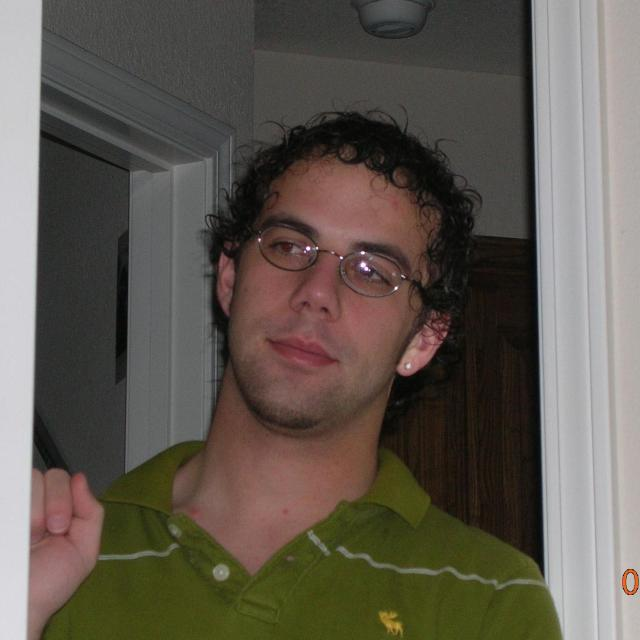no-glass: (266, 234, 400, 287)
